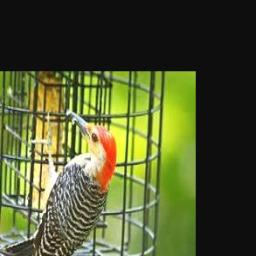Woodpecker: (3, 108, 117, 256)
